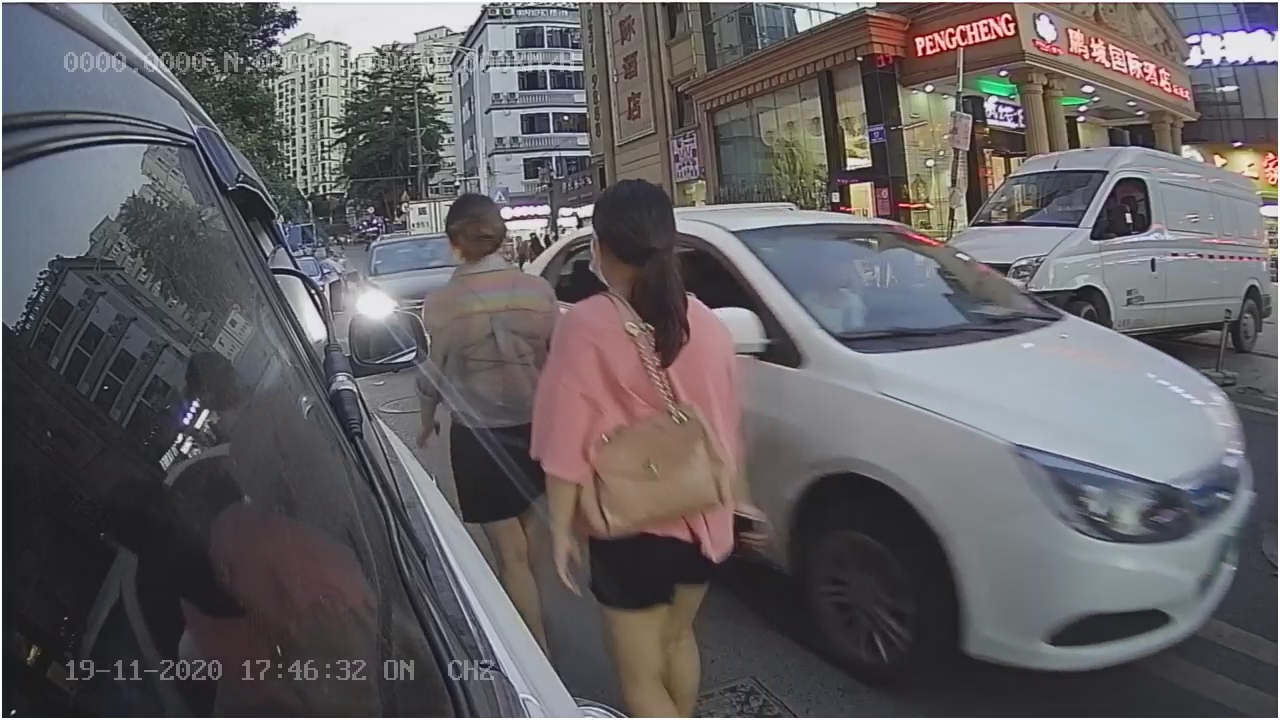person: (527, 185, 743, 645)
